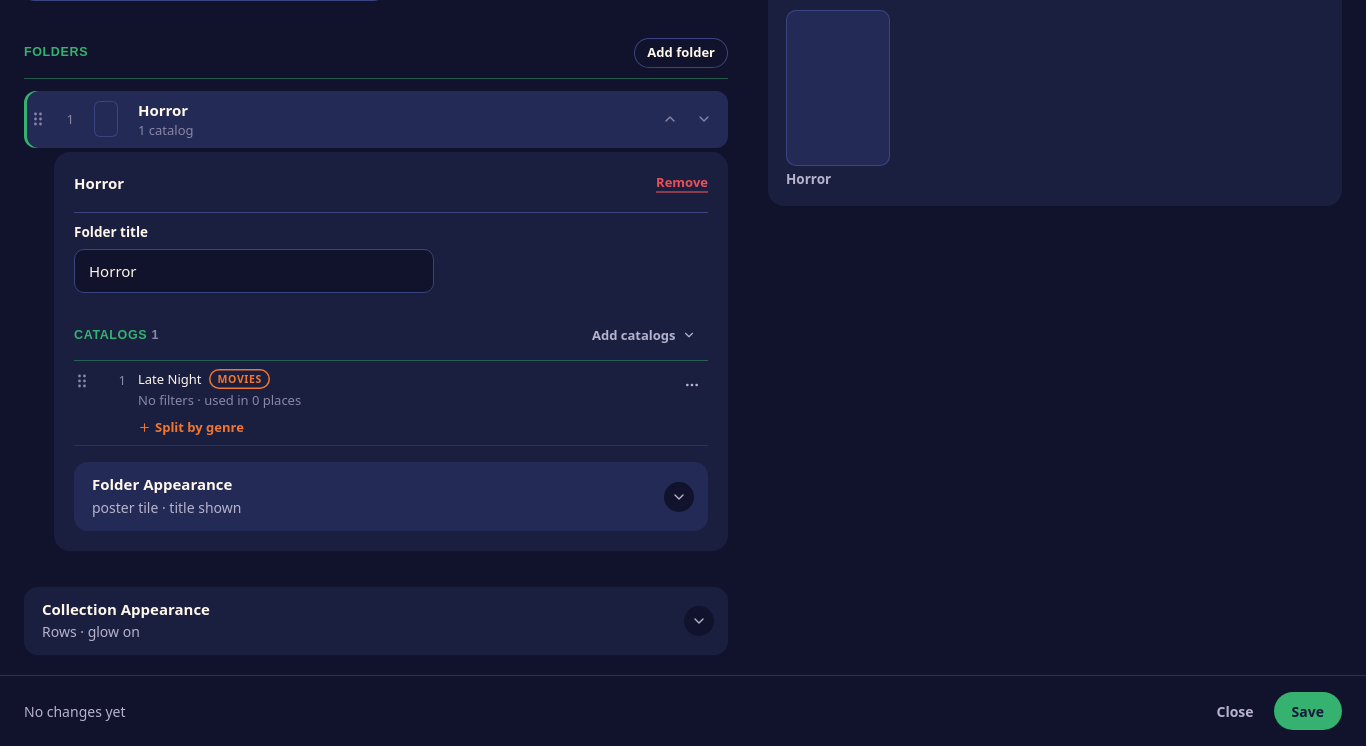
Scenario: CollectionEditor › folds the collection’s appearance into one shelf after its folders
(page scrolled)
Click the button "Collection Appearance Rows · glow on".
click(126, 609)  # box x1=24 y1=587 x2=728 y2=655
(page scrolled)
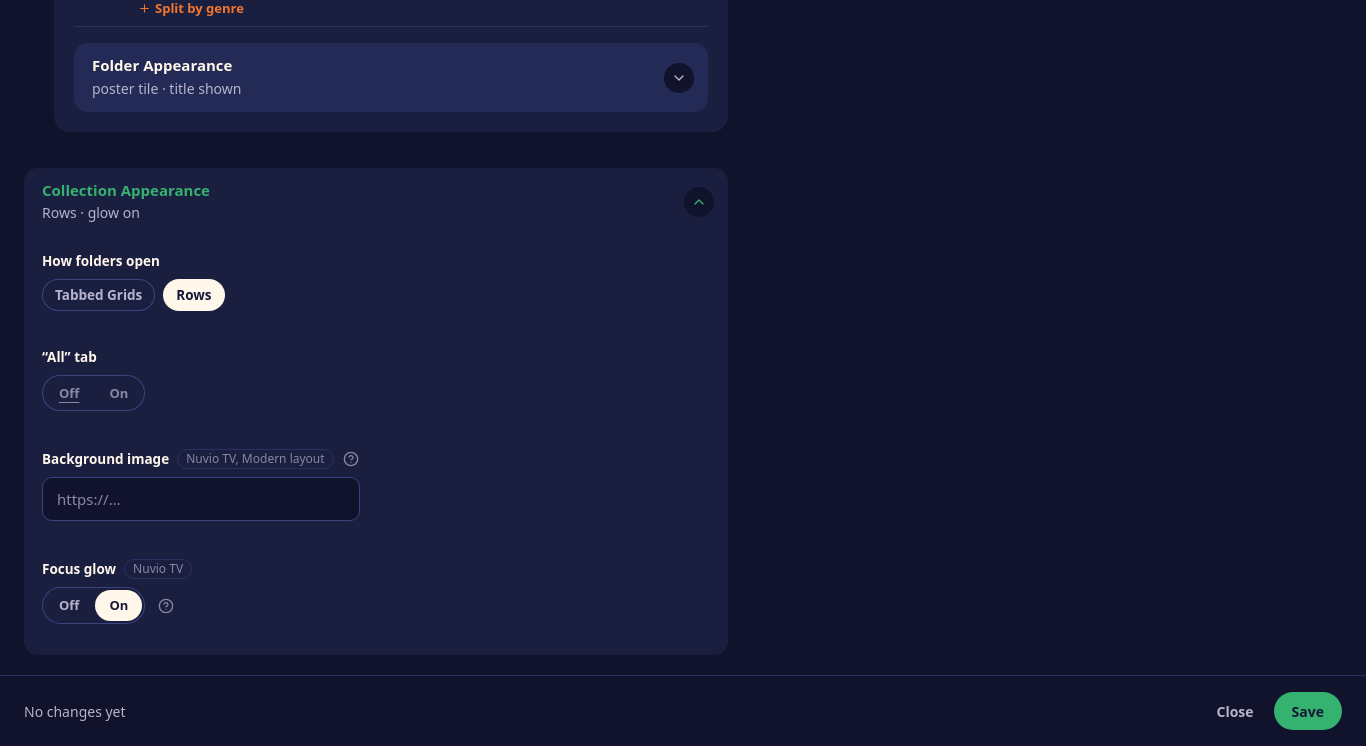
Click the button "Off" below "Focus glow".
click(69, 606)  # box x1=45 y1=590 x2=93 y2=621
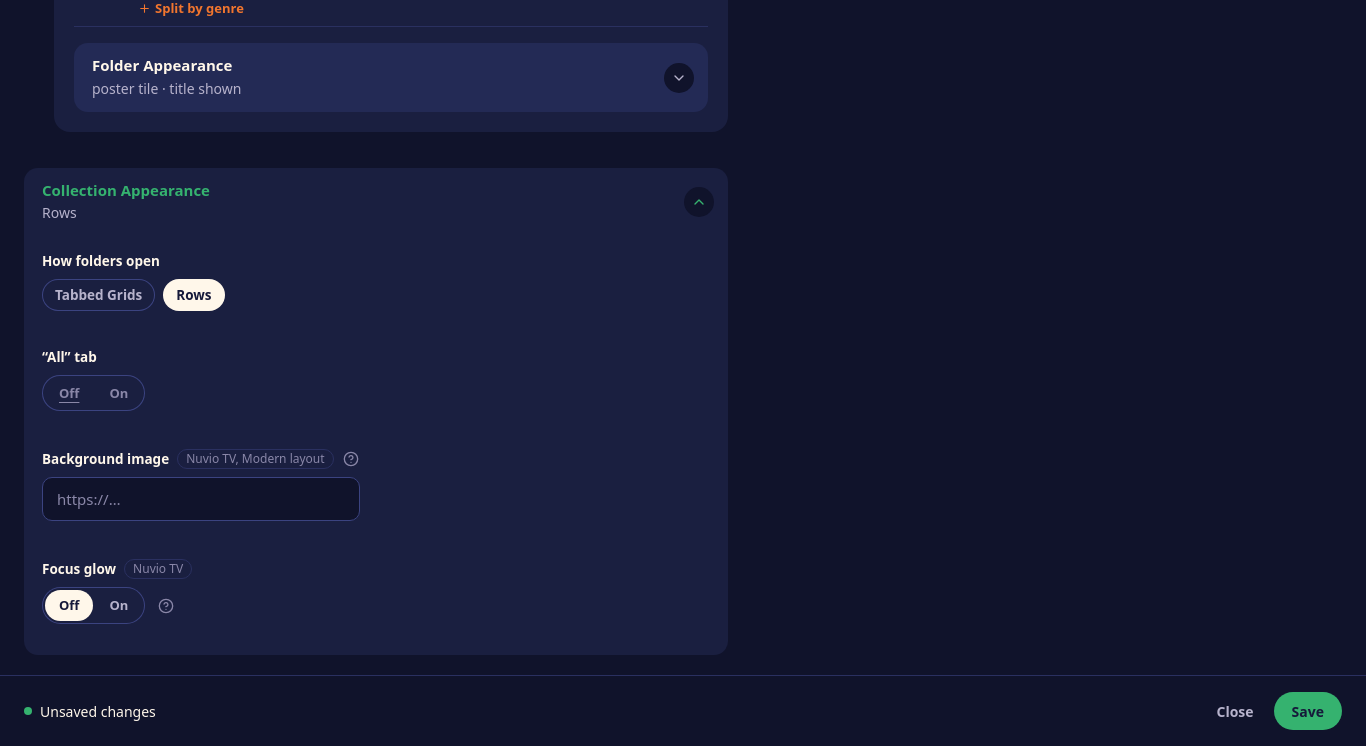
Expected: the button "Collection Appearance Rows" is shown, x1=24 y1=168 x2=728 y2=236
